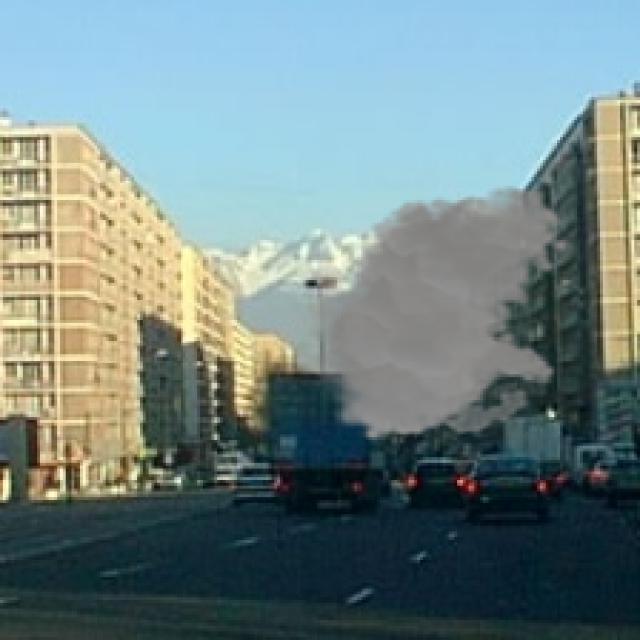smoke: (297, 186, 572, 443)
